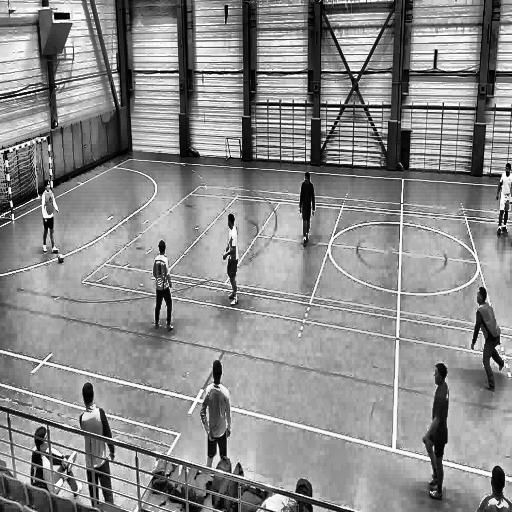ball: (57, 252, 66, 266)
player: (76, 379, 118, 508), (421, 362, 452, 504), (26, 424, 82, 499), (470, 286, 507, 394), (202, 358, 232, 470), (220, 209, 242, 310), (152, 239, 175, 334), (296, 169, 317, 251), (40, 178, 60, 257), (494, 161, 512, 238)
